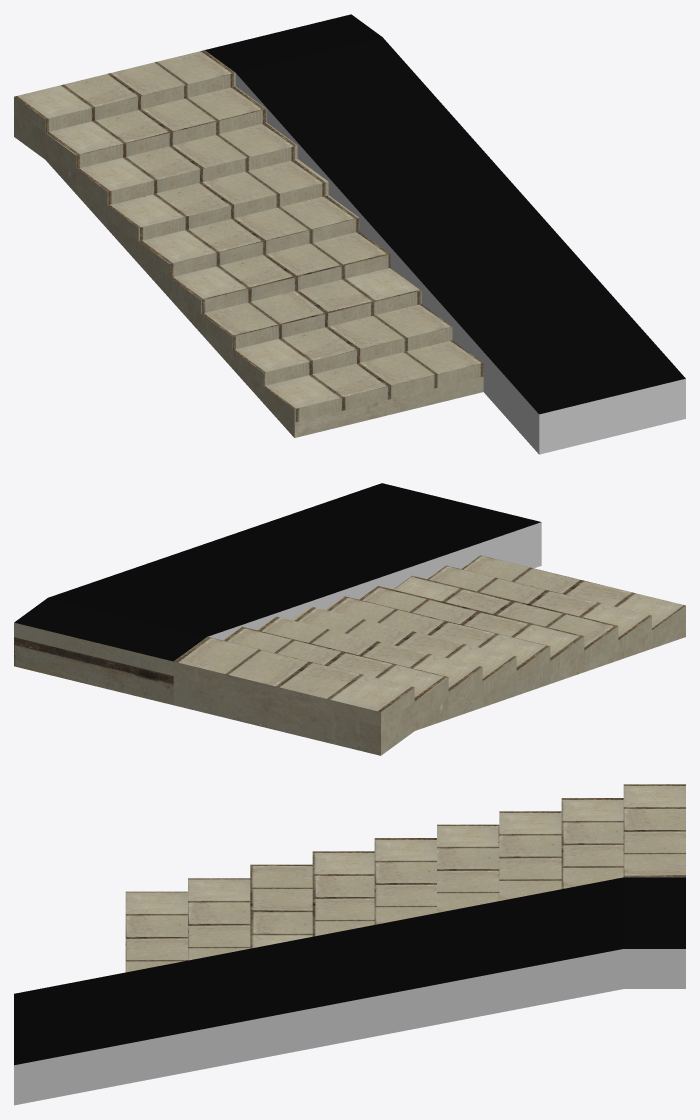
File: Stairs.fbx
3 renders of one model, top to bottom at view 1: azimuth 30°, elevation 25°; view 2: azimuth 150°, elevation 25°; view 3: azimuth 270°, elevation 25°, orthographic. The views are drawn at different scales.
Visible parts, largest first — view 1: Stair; view 2: Stair; view 3: Stair.
Part boxes in pixels (x1,y1,x2,y2): Stair: (14,14,685,454); Stair: (14,483,685,755); Stair: (14,784,685,1105).
Bounding box in the file's own units: 439 × 196 × 758.
3 materials, 1 textured.
